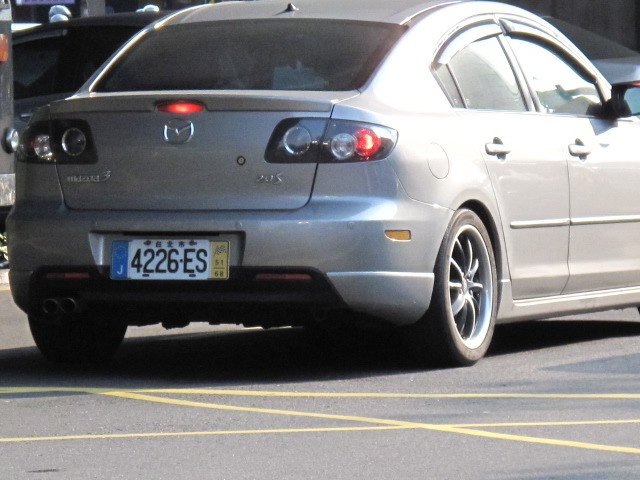plate: (127, 235, 214, 283)
